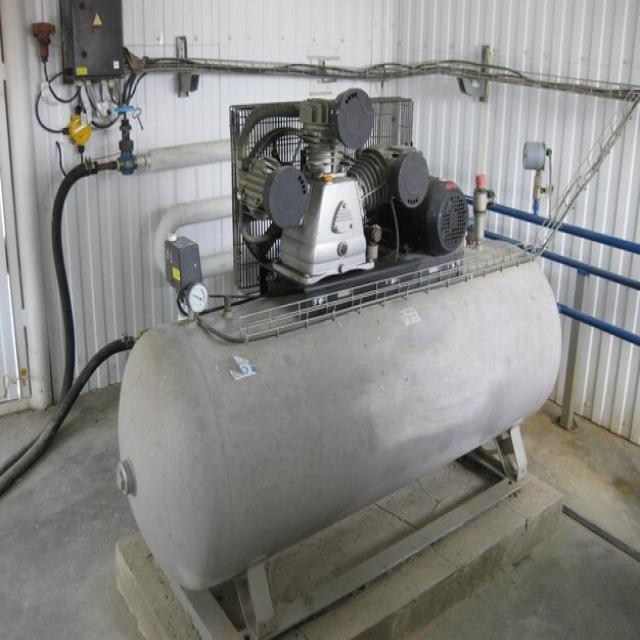compressor: (123, 87, 563, 614)
